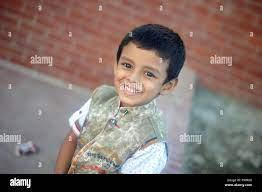Human: (59, 20, 178, 180)
